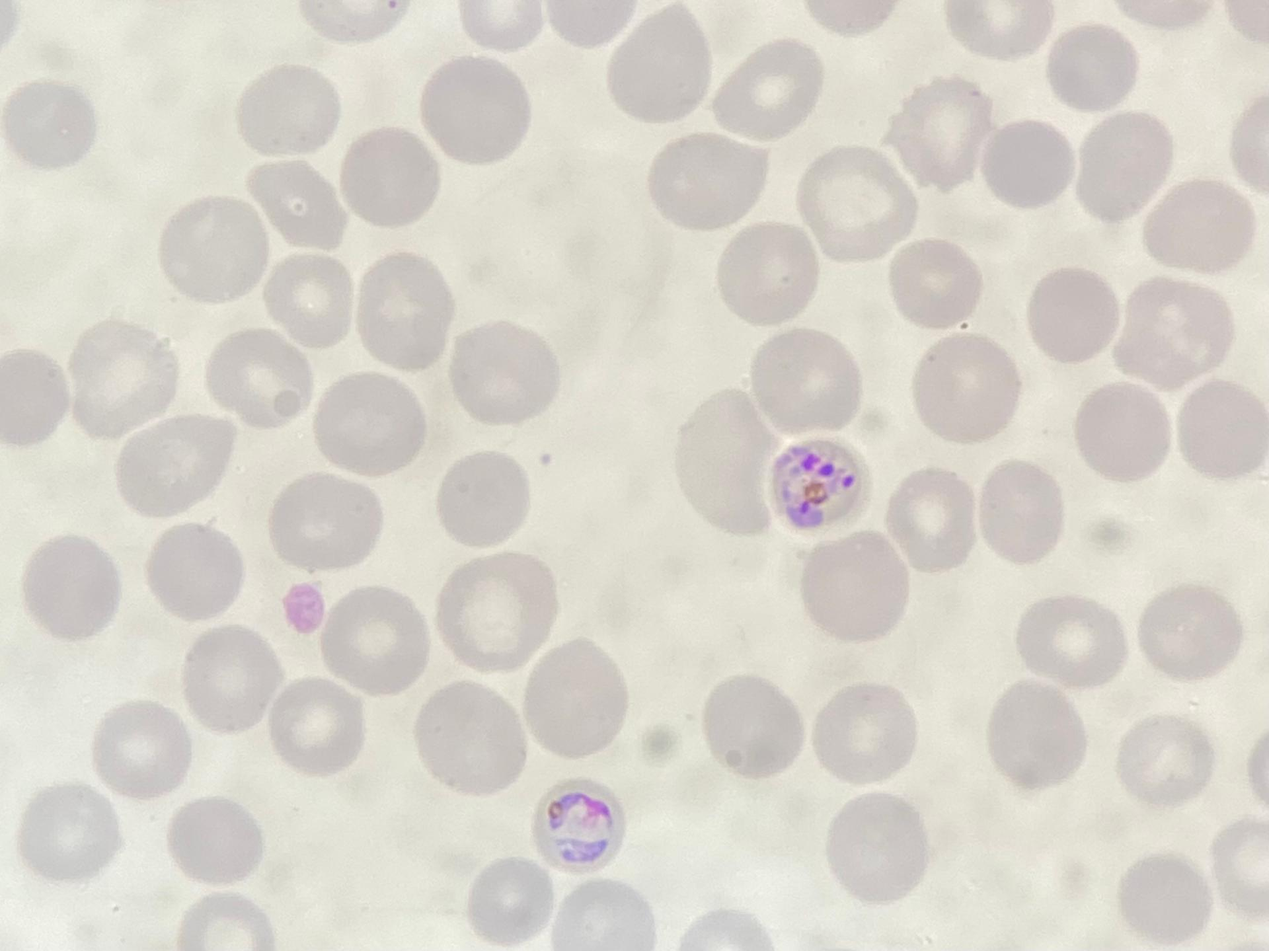Infected: (767, 435, 872, 528), (529, 772, 625, 872)
Uninfected: (673, 390, 773, 533), (436, 552, 555, 670), (1114, 274, 1233, 387), (67, 319, 180, 435), (796, 149, 913, 260), (521, 640, 629, 759), (114, 412, 234, 518), (267, 470, 386, 576), (704, 40, 825, 143), (418, 56, 532, 165), (646, 133, 768, 234), (414, 684, 526, 794), (311, 371, 426, 478), (911, 332, 1022, 442), (605, 12, 712, 125), (798, 533, 909, 641), (447, 319, 558, 426), (356, 253, 457, 369), (159, 194, 268, 301), (886, 79, 995, 186), (749, 326, 859, 432), (319, 589, 428, 694), (826, 793, 930, 903), (205, 328, 315, 431), (1139, 175, 1253, 274), (986, 681, 1088, 790), (20, 533, 122, 641), (701, 673, 804, 779), (812, 683, 919, 785), (714, 221, 817, 326), (1015, 593, 1127, 689), (143, 521, 247, 624), (1135, 582, 1242, 682), (1075, 112, 1173, 220), (180, 628, 280, 732), (18, 782, 120, 883), (340, 125, 443, 225), (1074, 382, 1173, 484), (246, 158, 350, 254), (236, 63, 342, 157), (91, 704, 191, 801), (1024, 265, 1120, 364), (436, 449, 535, 545), (1172, 377, 1265, 479), (267, 679, 364, 775), (887, 235, 986, 329), (166, 794, 265, 887), (884, 469, 976, 569), (262, 252, 356, 348), (1116, 712, 1212, 806), (978, 118, 1073, 211), (977, 460, 1063, 562), (3, 79, 98, 171), (1118, 853, 1211, 941), (1047, 24, 1139, 110), (465, 860, 555, 946), (0, 348, 71, 447), (551, 882, 652, 950), (948, 1, 1054, 57), (1210, 818, 1268, 915), (177, 892, 272, 948)
